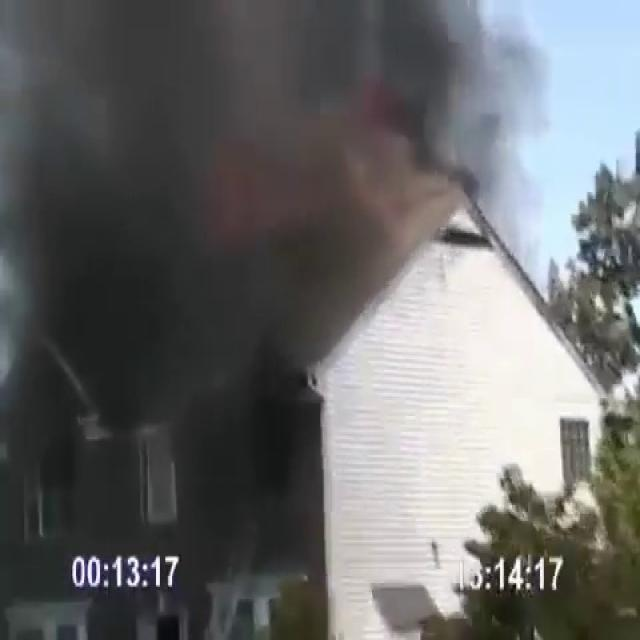Smoke: (0, 0, 476, 565)
